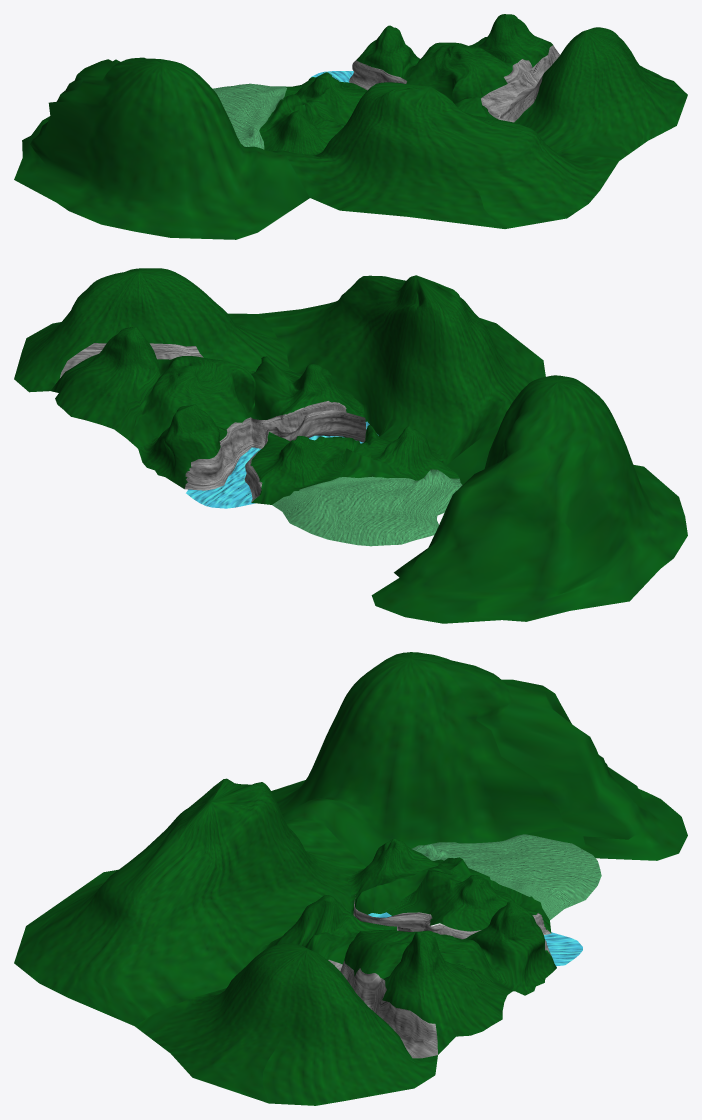
Rendered from Mountain_CompletePack.obj.
The picture shows the model from 3 angles, top to bottom: view 1: azimuth 30°, elevation 25°; view 2: azimuth 150°, elevation 25°; view 3: azimuth 270°, elevation 25°; orthographic projection. The views are drawn at different scales.
Visible parts, largest first — view 1: polySurface17; view 2: polySurface17; view 3: polySurface17.
Part boxes in pixels (left/top/right/bottom): polySurface17: left=14, top=14, right=687, bottom=239; polySurface17: left=14, top=268, right=687, bottom=623; polySurface17: left=14, top=652, right=687, bottom=1105.
Size of the model in its own units: 5949 by 1209 by 4534.
Materials: 1 (1 with a texture image).
